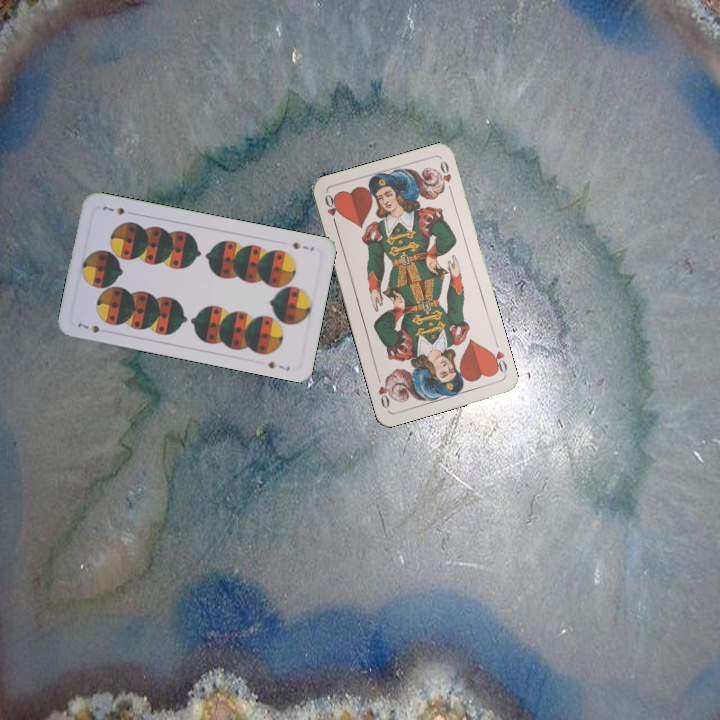HO: (321, 190, 340, 230), (486, 347, 510, 377)
S7: (73, 319, 102, 336), (289, 238, 317, 253)
